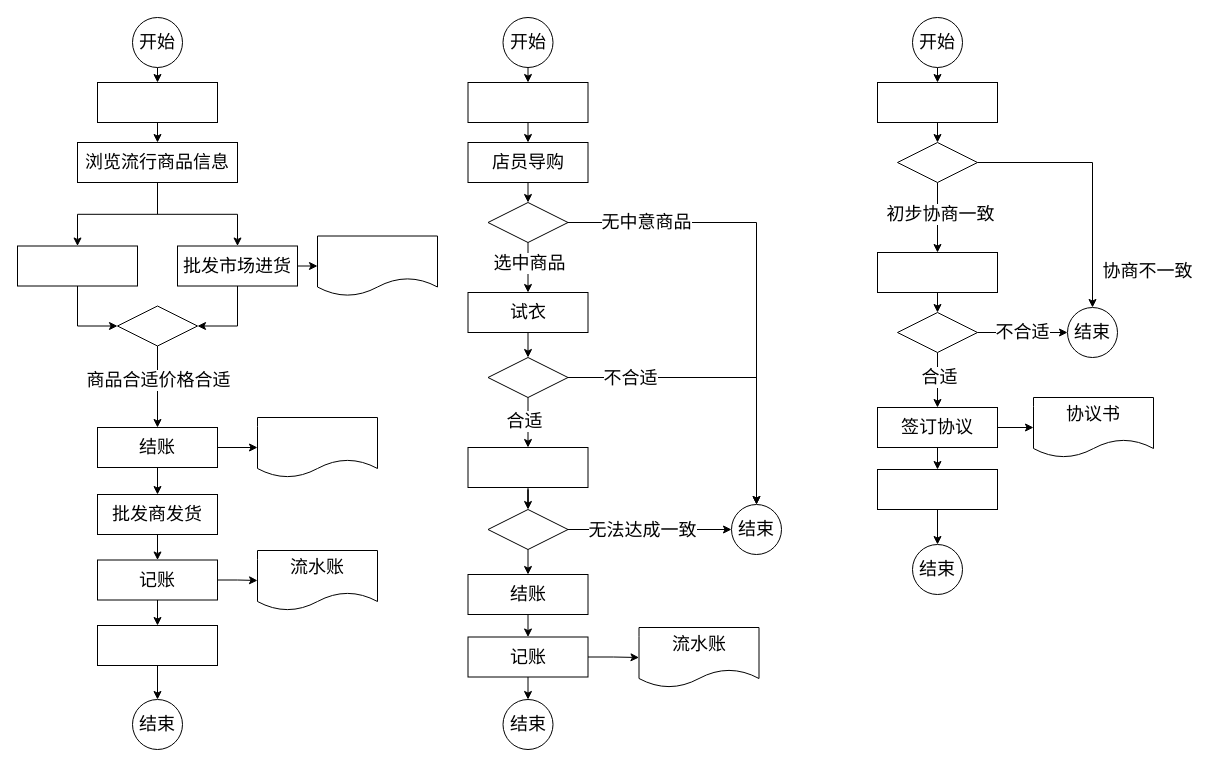
The diagram is 1209 pixels wide and 767 high, and some of its shapes have lost their labels. The shapes that lost their labels are listed below. From the top down, each one's box as (x1, y1, x2, y2) in pixels, then its label:
(96, 82, 218, 122): 查看商品库存
(467, 82, 588, 122): 顾客挑选商品
(876, 82, 998, 122): 发布招聘信息
(16, 245, 138, 286): 联系批发商
(316, 235, 438, 296): 批发商名片
(876, 252, 998, 292): 试用
(256, 416, 378, 478): 单据凭证
(467, 446, 588, 488): 双方议价
(876, 468, 998, 510): 撤销发布信息
(96, 624, 218, 666): 货物到店
